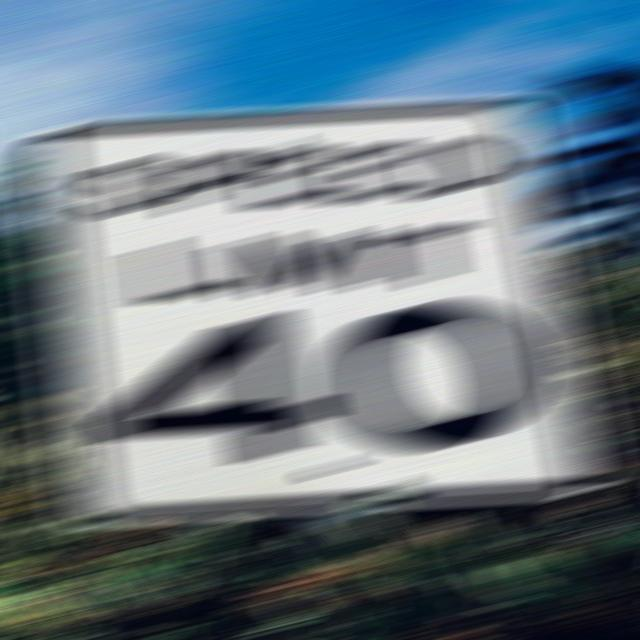speedLimit40: (20, 121, 611, 504)
